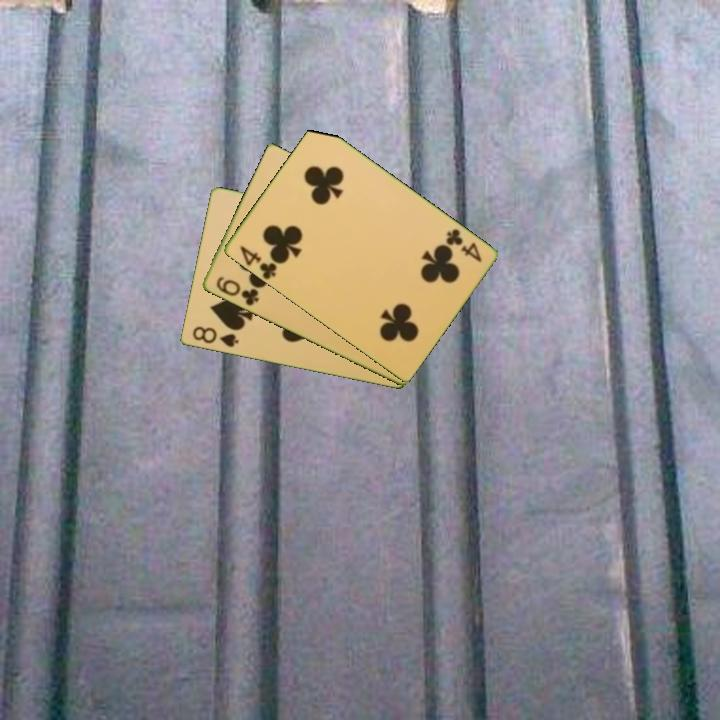4c: (236, 242, 279, 282), (442, 225, 485, 265)
6c: (212, 273, 261, 309)
8s: (188, 323, 241, 350)
